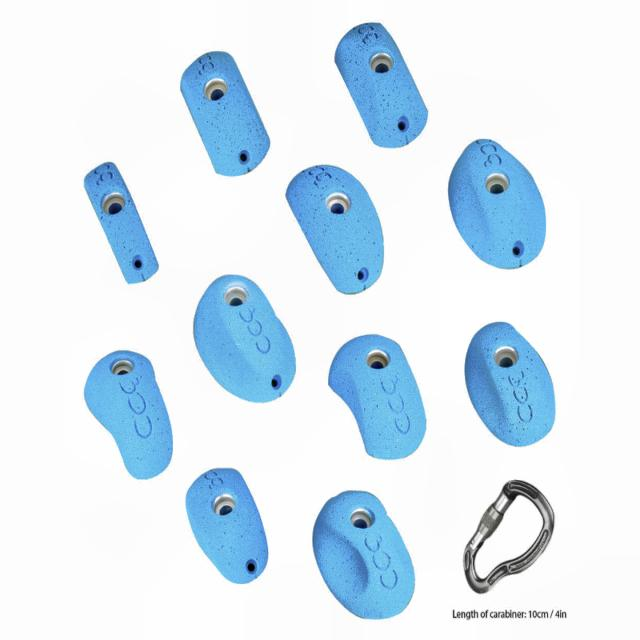Hold: (298, 485, 428, 616), (323, 332, 437, 466), (444, 130, 554, 268), (280, 171, 393, 294), (332, 19, 438, 146), (188, 277, 299, 393), (461, 314, 564, 438), (83, 349, 180, 473), (176, 49, 272, 174), (184, 464, 268, 587), (81, 169, 162, 286)
